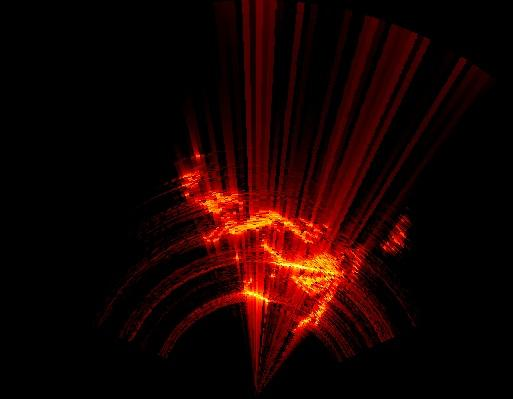shipwreck: (261, 241, 343, 330), (203, 209, 327, 244), (183, 172, 239, 214), (243, 278, 276, 302)
